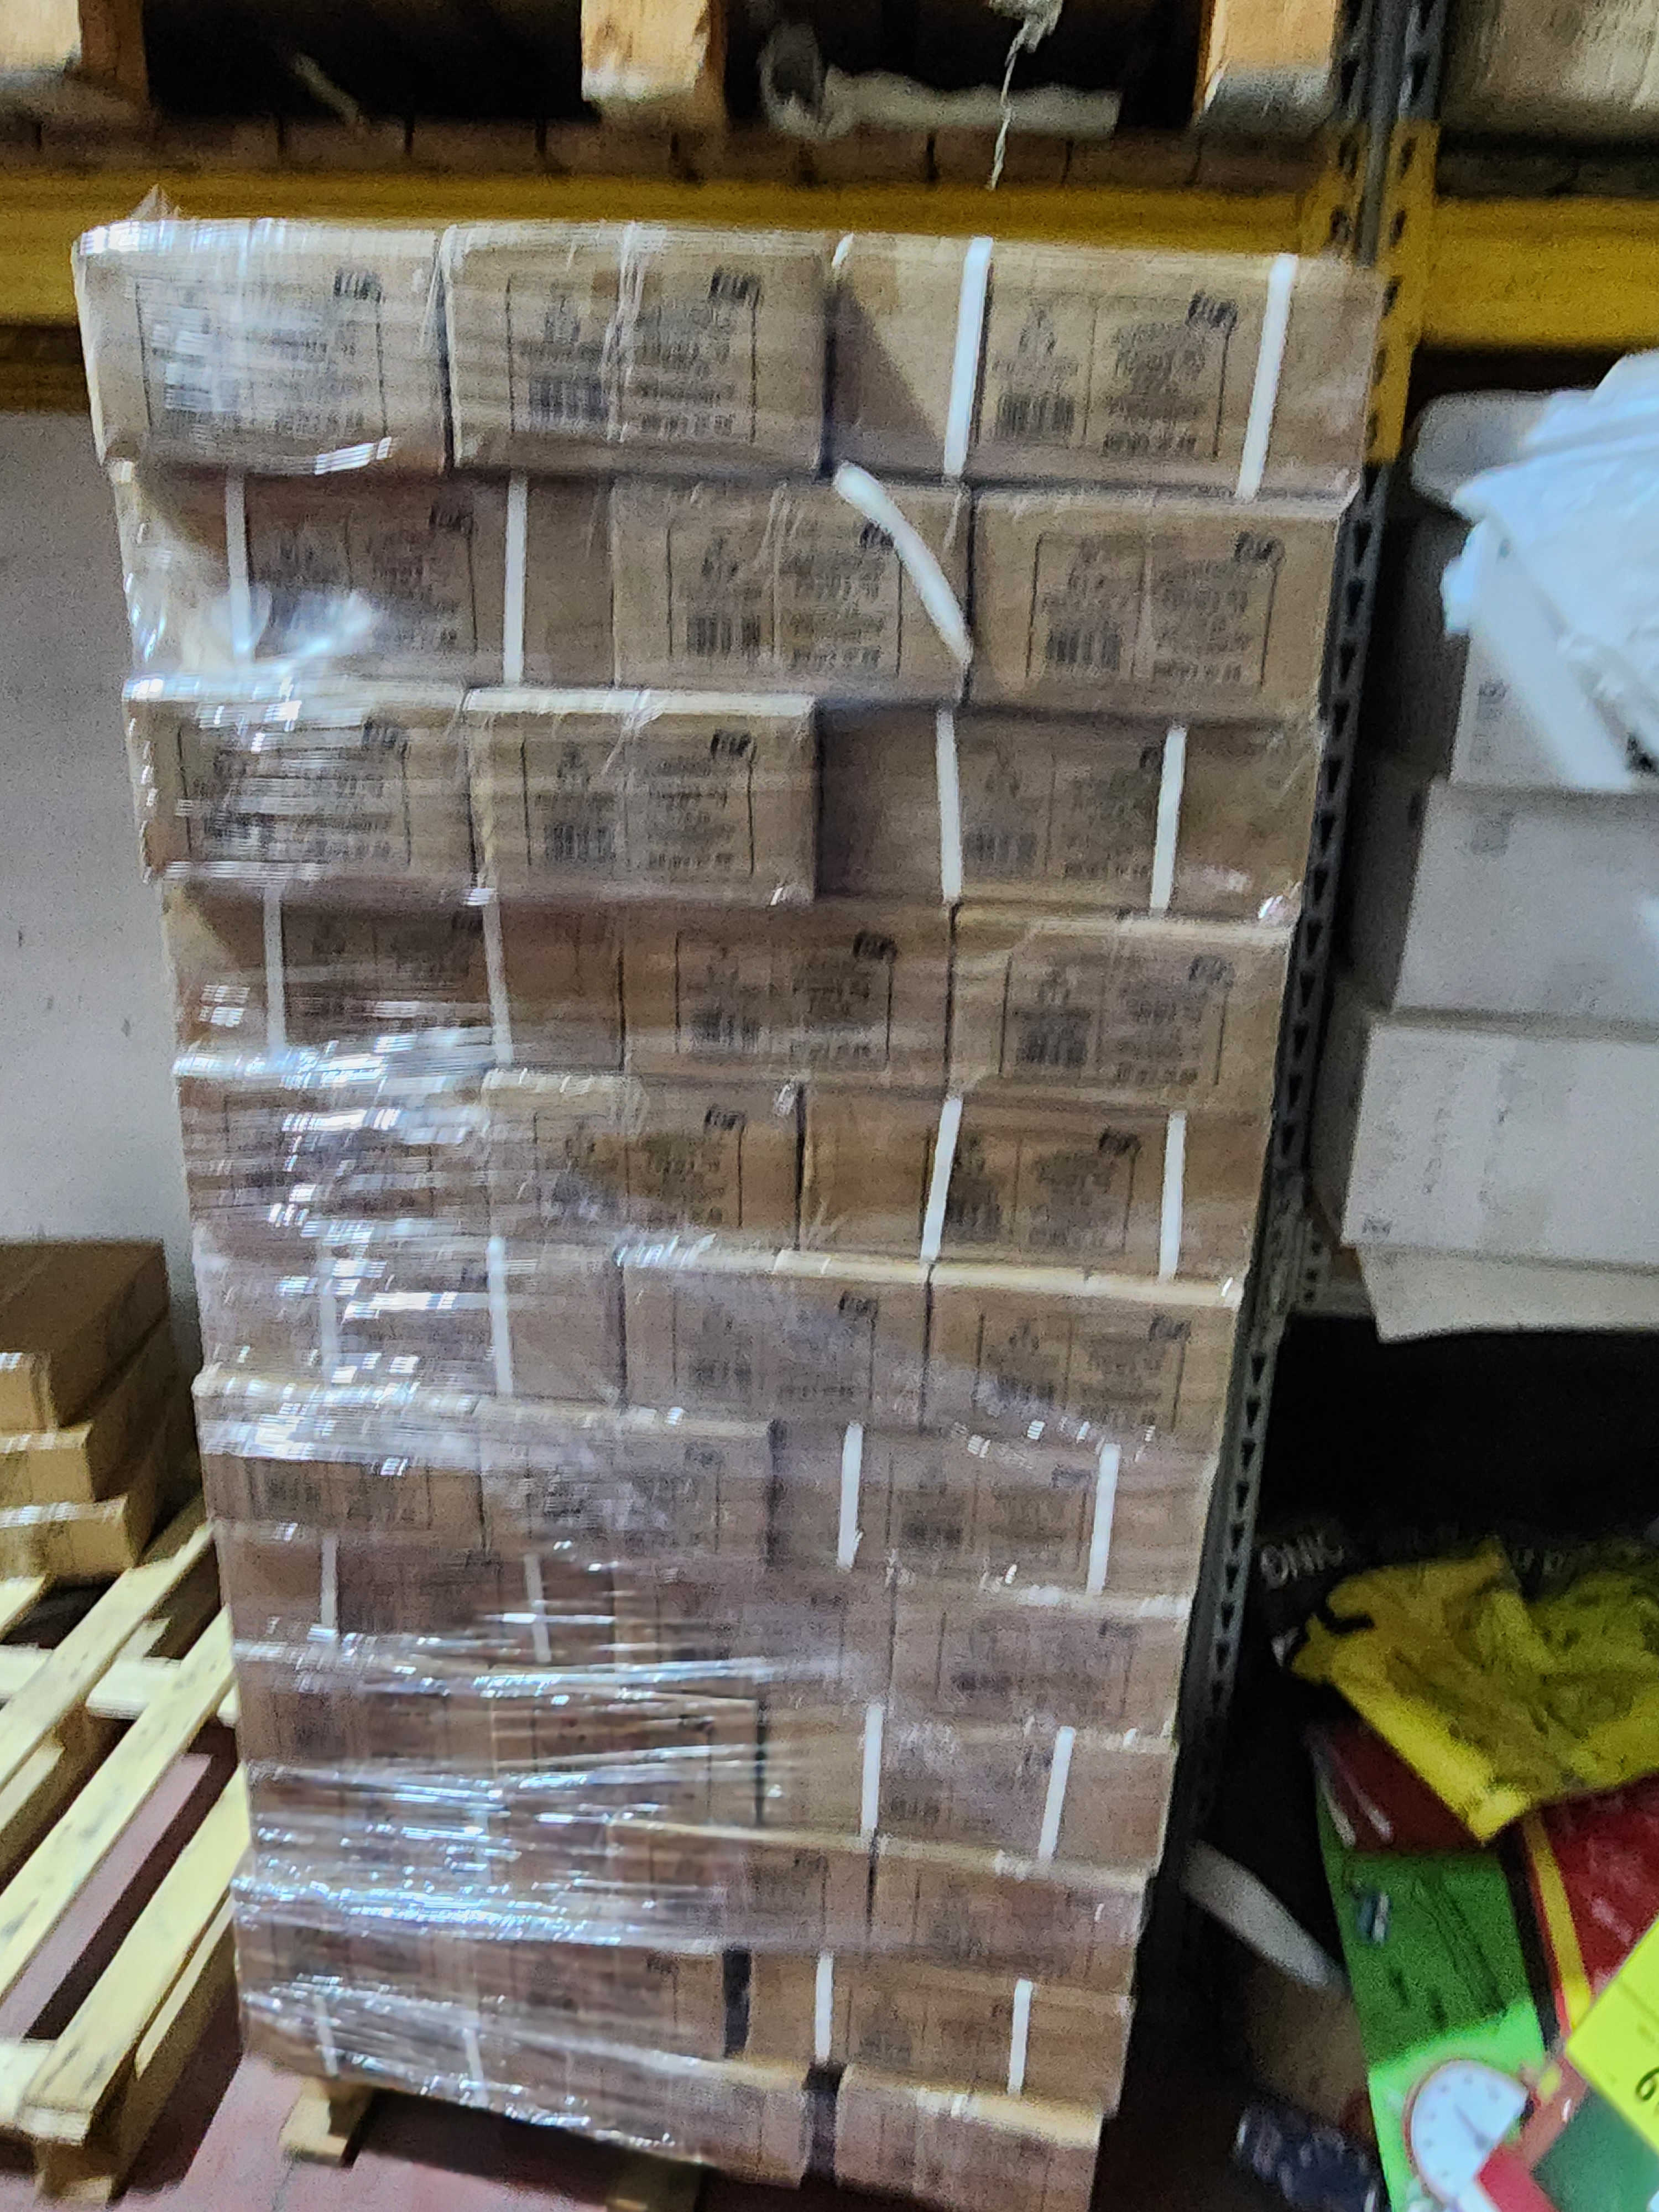box: (835, 207, 1466, 502), (434, 448, 1004, 751), (145, 1782, 753, 2055), (812, 657, 1358, 953), (955, 432, 1371, 749), (769, 1054, 1286, 1308), (423, 188, 843, 495), (47, 446, 523, 705), (427, 657, 850, 930), (66, 185, 457, 477), (741, 1383, 1241, 1609), (125, 867, 648, 1076), (918, 1237, 1286, 1496), (760, 1676, 1204, 1890), (951, 900, 1323, 1151), (115, 664, 486, 911), (152, 1226, 640, 1414), (592, 1214, 948, 1451), (460, 1064, 836, 1278), (648, 855, 958, 1099), (110, 1064, 516, 1249), (453, 1395, 798, 1604), (155, 1392, 542, 1571), (179, 1623, 523, 1818), (471, 1630, 763, 1848), (805, 2062, 1134, 2212)
